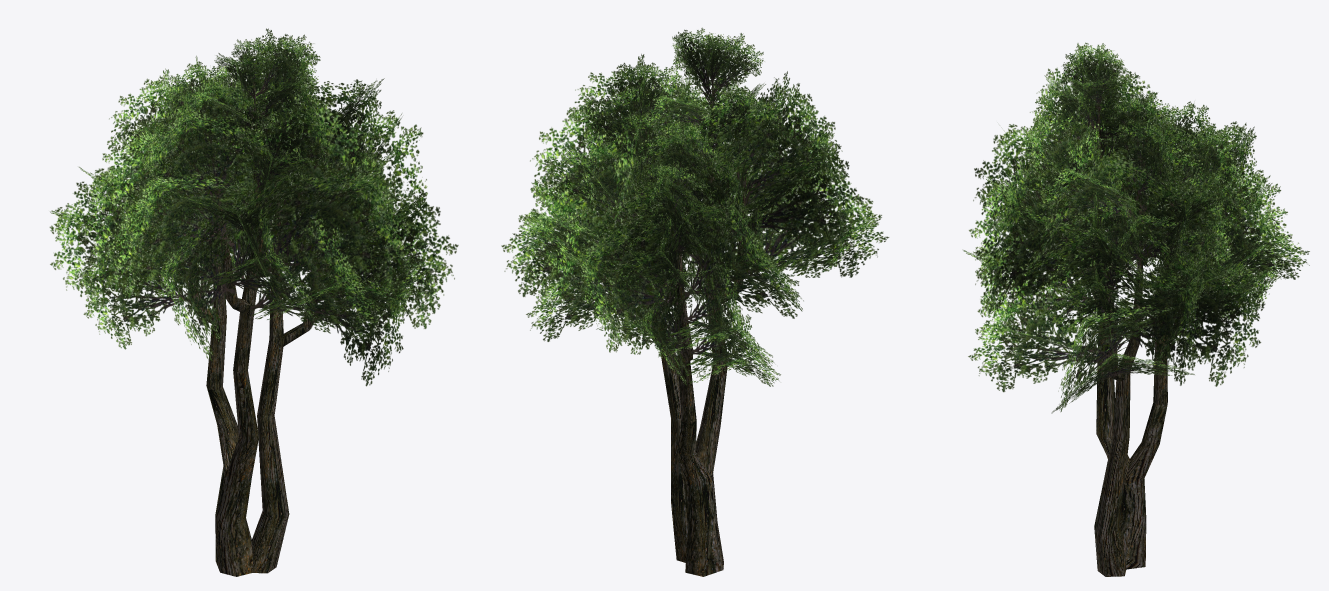
File: tree708.glb
3 renders of one model, left to right at view 1: azimuth 30°, elevation 25°; view 2: azimuth 150°, elevation 25°; view 3: azimuth 270°, elevation 25°, orthographic. The views are drawn at different scales.
Visible parts, largest first — view 1: tree708; view 2: tree708; view 3: tree708.
Part boxes in pixels (x1,y1,x2,y2): tree708: (49, 28, 458, 576); tree708: (501, 27, 888, 576); tree708: (963, 42, 1309, 576).
Bounding box in the file's own units: 27.32 × 39.04 × 25.06.
Materials: 2 (2 with a texture image).
